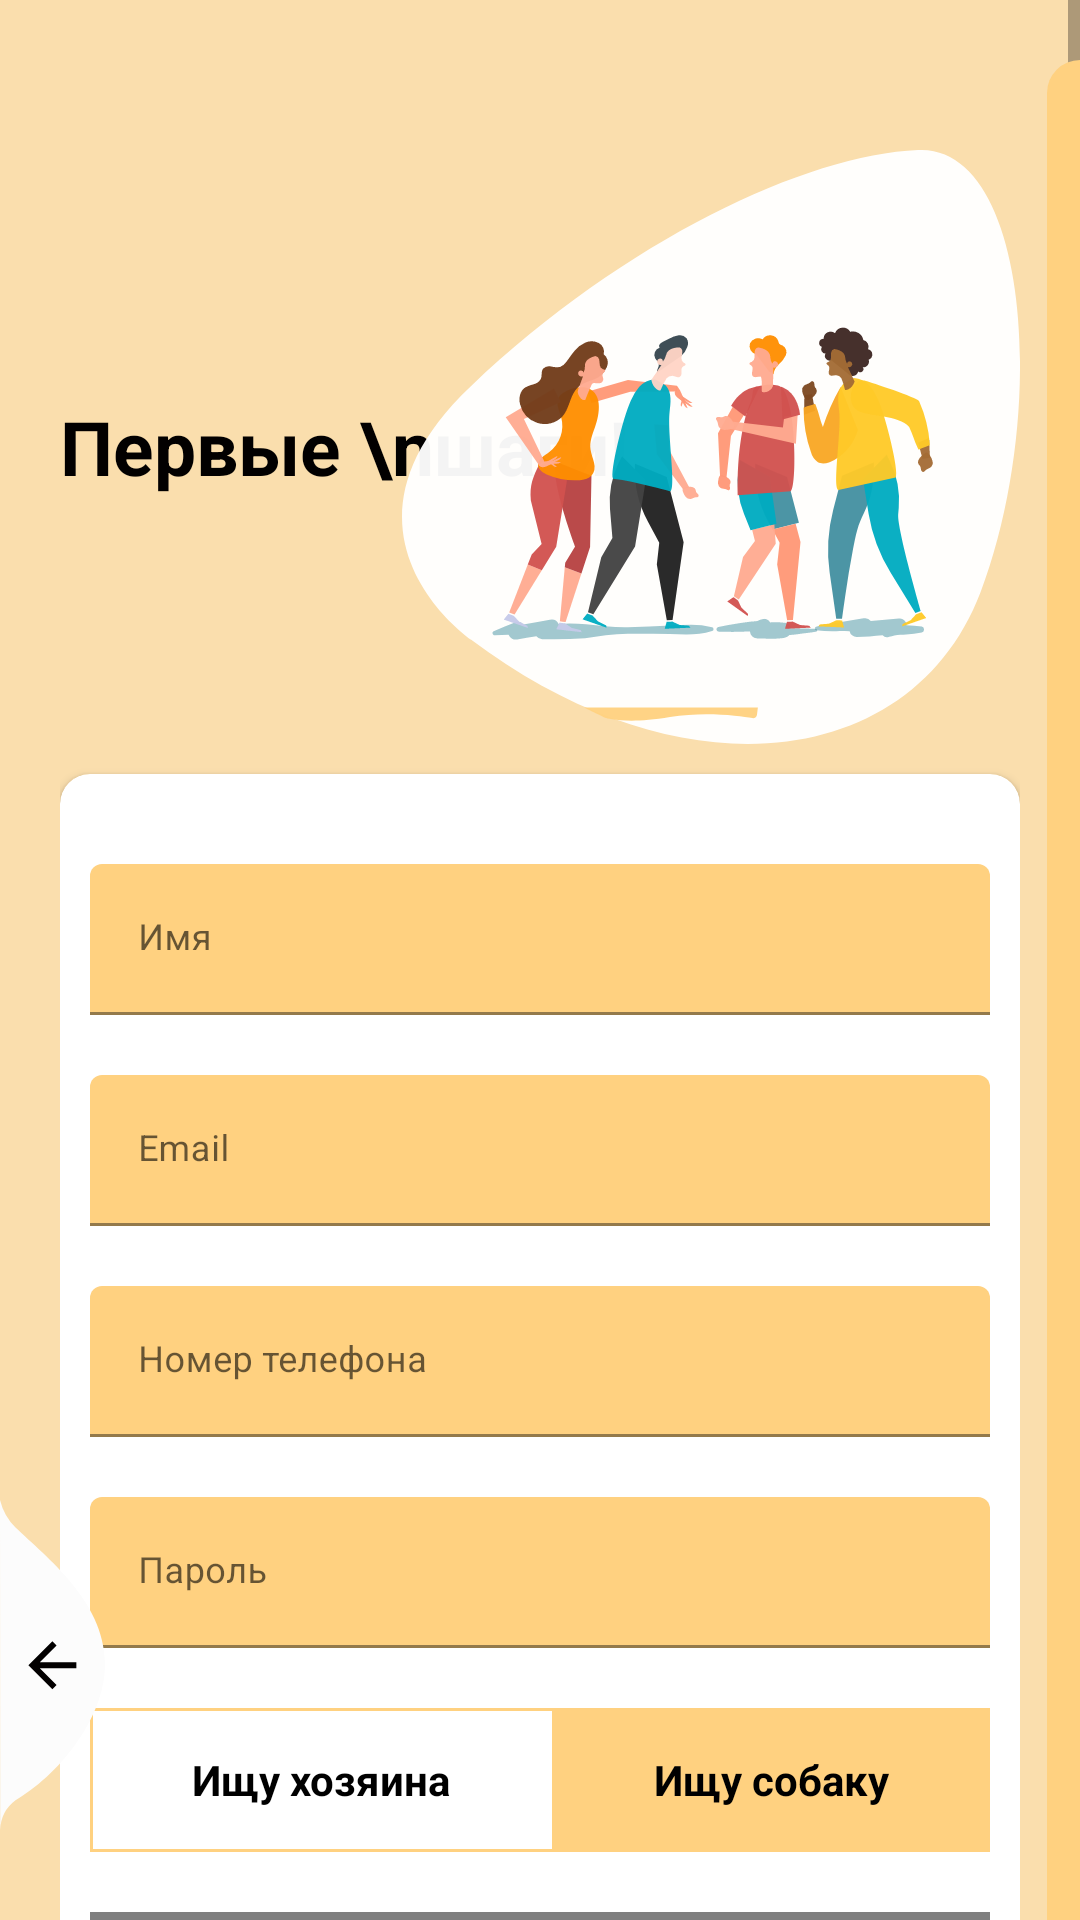

Icon click points for this 1080 × 1920 phone screenshot, format point (x, y):
back: point (52, 1665)
